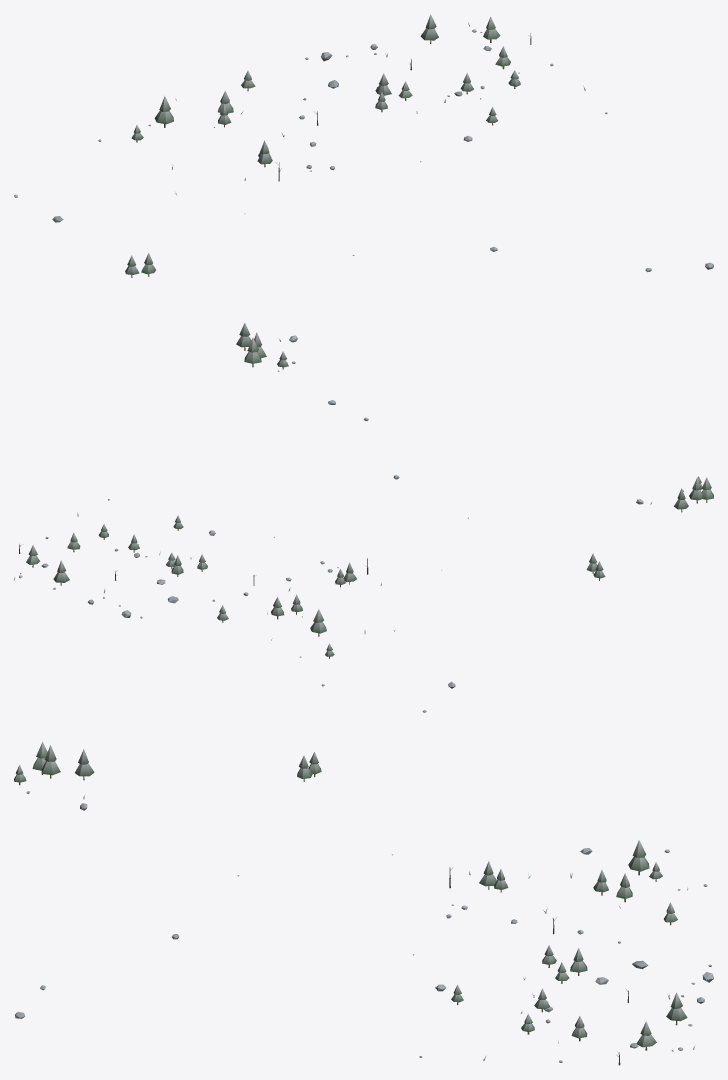
Rendered from frost_land_scatter_c13_10_lod1.glb.
The picture shows the model from 3 angles, top to bottom: view 1: azimuth 30°, elevation 25°; view 2: azimuth 150°, elevation 25°; view 3: azimuth 270°, elevation 25°; orthographic projection. The views are drawn at different scales.
Visible parts, largest first — view 1: frost_land_scatter_c13_10_lod1; view 2: frost_land_scatter_c13_10_lod1; view 3: frost_land_scatter_c13_10_lod1.
Boxes of the visible parts, <box> form: frost_land_scatter_c13_10_lod1: <box>14,14,713,371</box>; frost_land_scatter_c13_10_lod1: <box>14,400,713,712</box>; frost_land_scatter_c13_10_lod1: <box>14,742,713,1065</box>.
Bounding box in the file's own units: 254 × 35.03 × 254.
